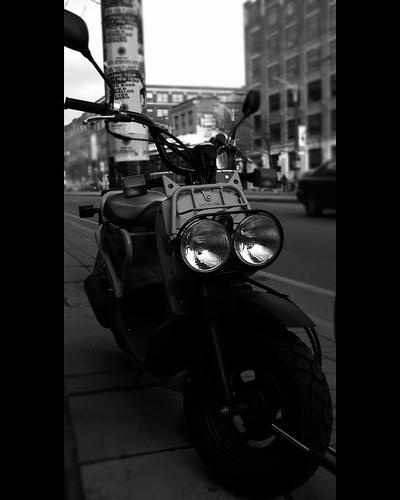car: (296, 157, 333, 221)
motorbike: (67, 8, 334, 496)
